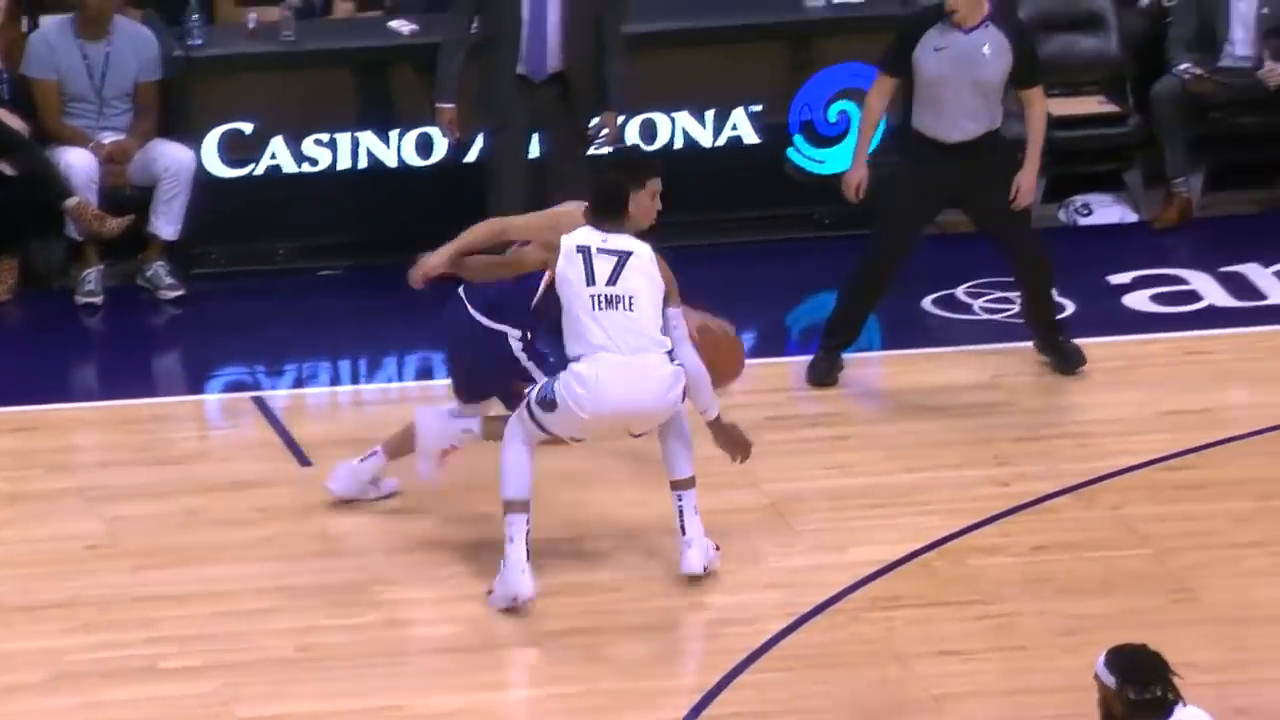ball: (686, 328, 747, 386)
